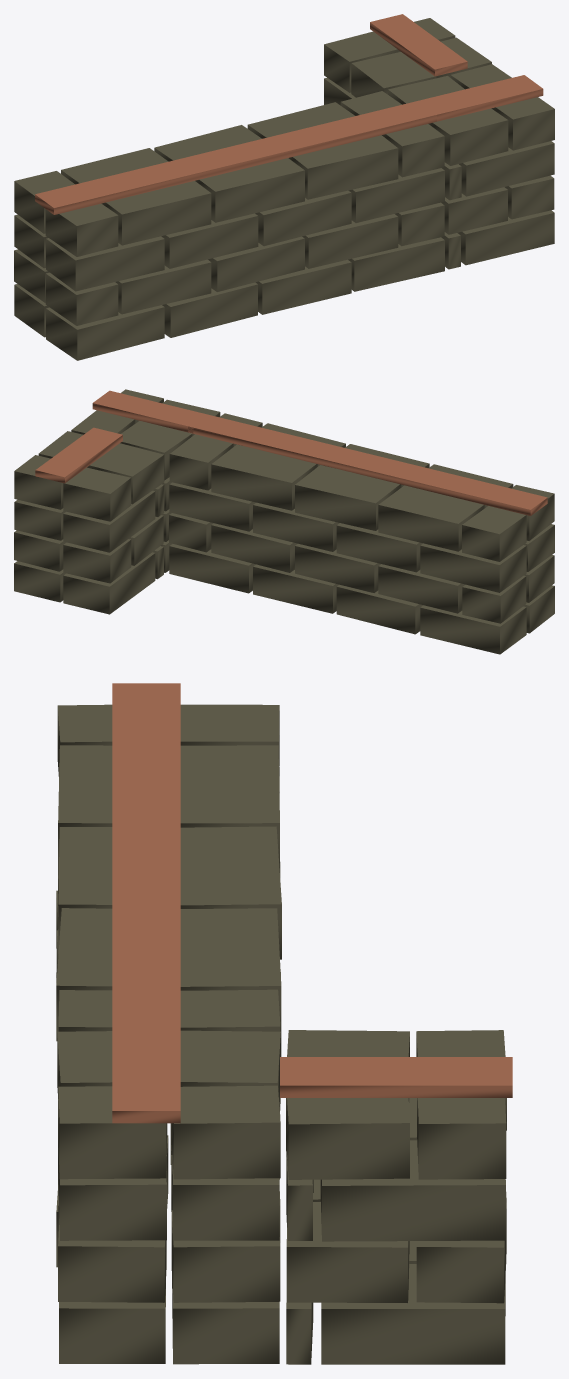
The model's file is SM_SacosRemateEspejo_v3_Tablon_e0_Sano_LOD0.fbx.
The picture shows the model from 3 angles, top to bottom: view 1: azimuth 30°, elevation 25°; view 2: azimuth 150°, elevation 25°; view 3: azimuth 270°, elevation 25°; orthographic projection. The views are drawn at different scales.
Visible parts, largest first — view 1: SM_sacos_piezas_v32_LOD0; view 2: SM_sacos_piezas_v32_LOD0; view 3: SM_sacos_piezas_v32_LOD0.
Part boxes in pixels (x1,y1,x2,y2): SM_sacos_piezas_v32_LOD0: (14,14,554,360); SM_sacos_piezas_v32_LOD0: (14,389,554,654); SM_sacos_piezas_v32_LOD0: (56,683,512,1364).
Size of the model in its own units: 4.46 by 1.24 by 2.01.
